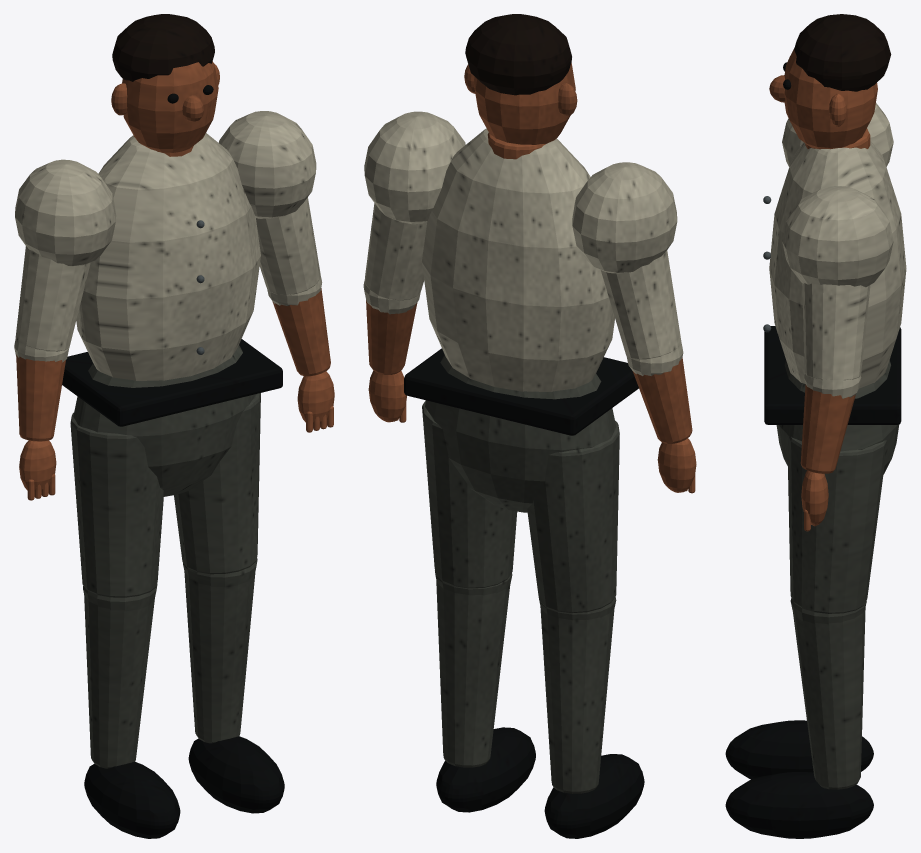
Rendered from PROP-1FAB968E3F60_lod0.glb.
The picture shows the model from 3 angles, left to right: view 1: azimuth 30°, elevation 25°; view 2: azimuth 150°, elevation 25°; view 3: azimuth 270°, elevation 25°; orthographic projection. The views are drawn at different scales.
Visible parts, largest first — view 1: torso.044, thigh.043, calf.043, shoulder.044, shoe.043, upper_arm.044, pelvis.043, belt.043, forearm.044, head.043, hair_cap.043, hand.043 (+3 smaller); view 2: torso.044, thigh.043, calf.043, shoulder.044, pelvis.043, upper_arm.044, shoe.043, belt.043, hair_cap.043, forearm.044, head.043, hand.043 (+4 smaller); view 3: torso.044, thigh.043, shoe.043, shoulder.044, calf.043, upper_arm.044, hair_cap.043, belt.043, head.043, forearm.044, pelvis.043, hand.043 (+3 smaller).
Part boxes in pixels (x1,y1,x2,y2): torso.044: [76, 133, 260, 380]; thigh.043: [70, 393, 260, 597]; calf.043: [84, 572, 255, 768]; shoulder.044: [15, 111, 316, 266]; shoe.043: [84, 736, 284, 838]; upper_arm.044: [15, 197, 320, 351]; pelvis.043: [73, 345, 256, 496]; belt.043: [62, 339, 282, 426]; forearm.044: [16, 288, 330, 441]; head.043: [122, 61, 218, 152]; hair_cap.043: [112, 14, 214, 81]; hand.043: [19, 371, 334, 491]; torso.044: [422, 128, 614, 391]; thigh.043: [422, 400, 619, 612]; calf.043: [436, 581, 614, 793]; shoulder.044: [364, 111, 677, 273]; pelvis.043: [425, 355, 616, 512]; upper_arm.044: [365, 203, 681, 359]; shoe.043: [436, 727, 644, 838]; belt.043: [404, 348, 638, 435]; hair_cap.043: [465, 14, 571, 95]; forearm.044: [366, 300, 692, 443]; head.043: [473, 63, 575, 144]; hand.043: [368, 370, 696, 492]; torso.044: [769, 140, 906, 388]; thigh.043: [787, 436, 886, 613]; shoe.043: [725, 720, 873, 838]; shoulder.044: [782, 103, 893, 287]; calf.043: [793, 607, 865, 789]; upper_arm.044: [802, 283, 870, 380]; hair_cap.043: [794, 14, 891, 91]; belt.043: [764, 326, 901, 424]; head.043: [784, 48, 877, 149]; forearm.044: [800, 384, 855, 473]; pelvis.043: [776, 360, 899, 474]; hand.043: [801, 470, 828, 526].
Bounding box in the file's own units: 0.7175 × 1.71 × 0.3561.
Materials: 6 (6 with a texture image).
